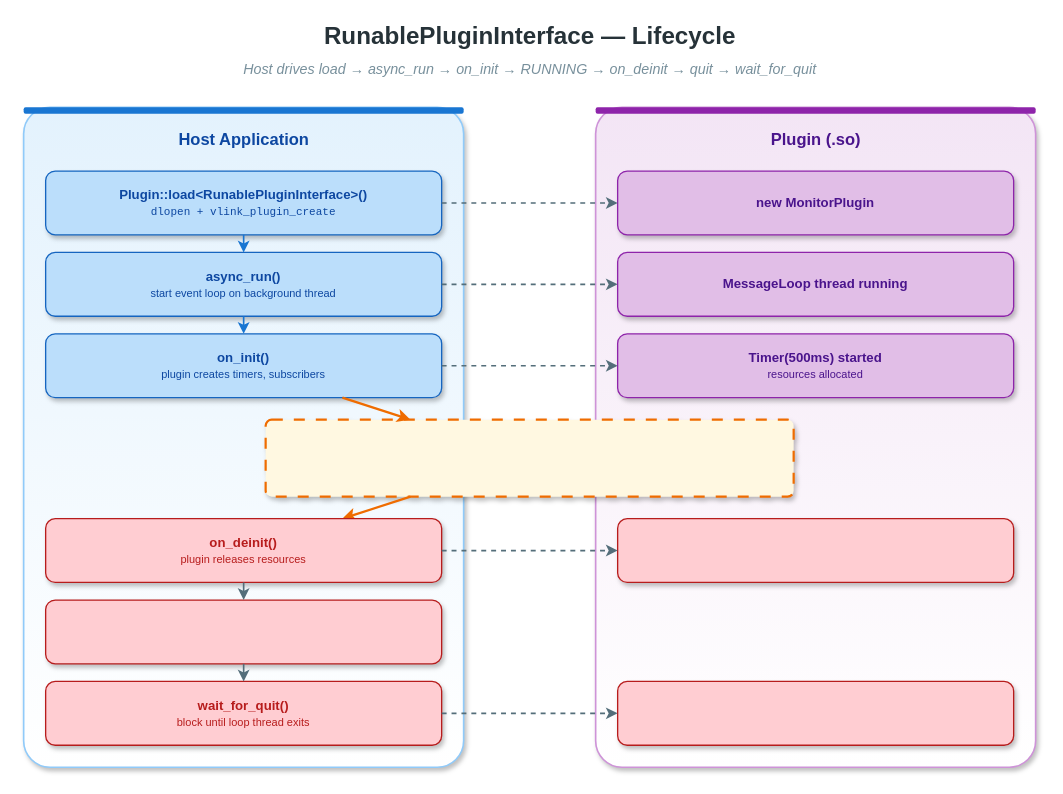
The diagram is 1063 pixels wide and 794 high, and some of its shapes have lost their labels. Each missing label, with the centre of its shape:
quit() request event loop stop: the point at 244,633
RUNNING plugin processes events on its own thread · host continues other work: the point at 530,459
Thread joined loop destroyed: the point at 816,714
Timer stopped resources freed: the point at 816,551
